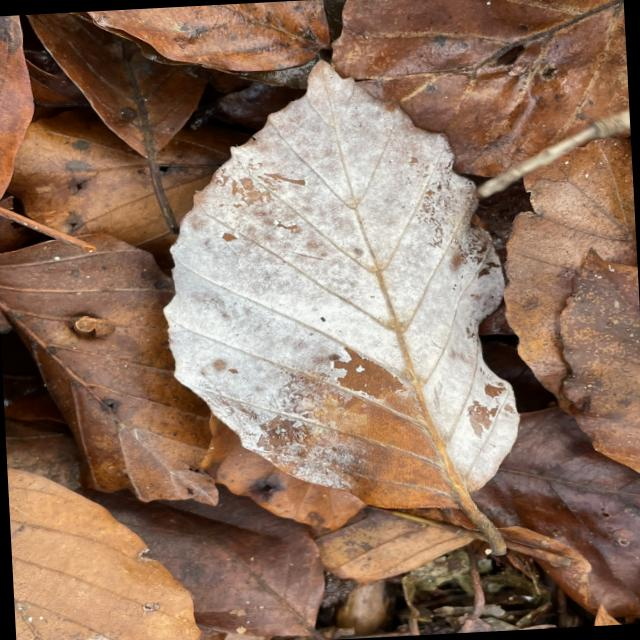powdery_mildew: (165, 63, 519, 533)
